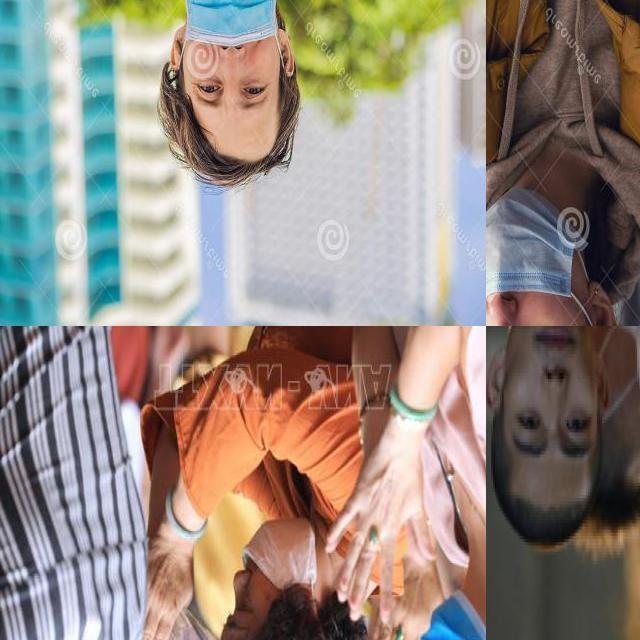hairnet: (484, 183, 589, 326), (176, 2, 285, 83), (226, 510, 318, 602)
